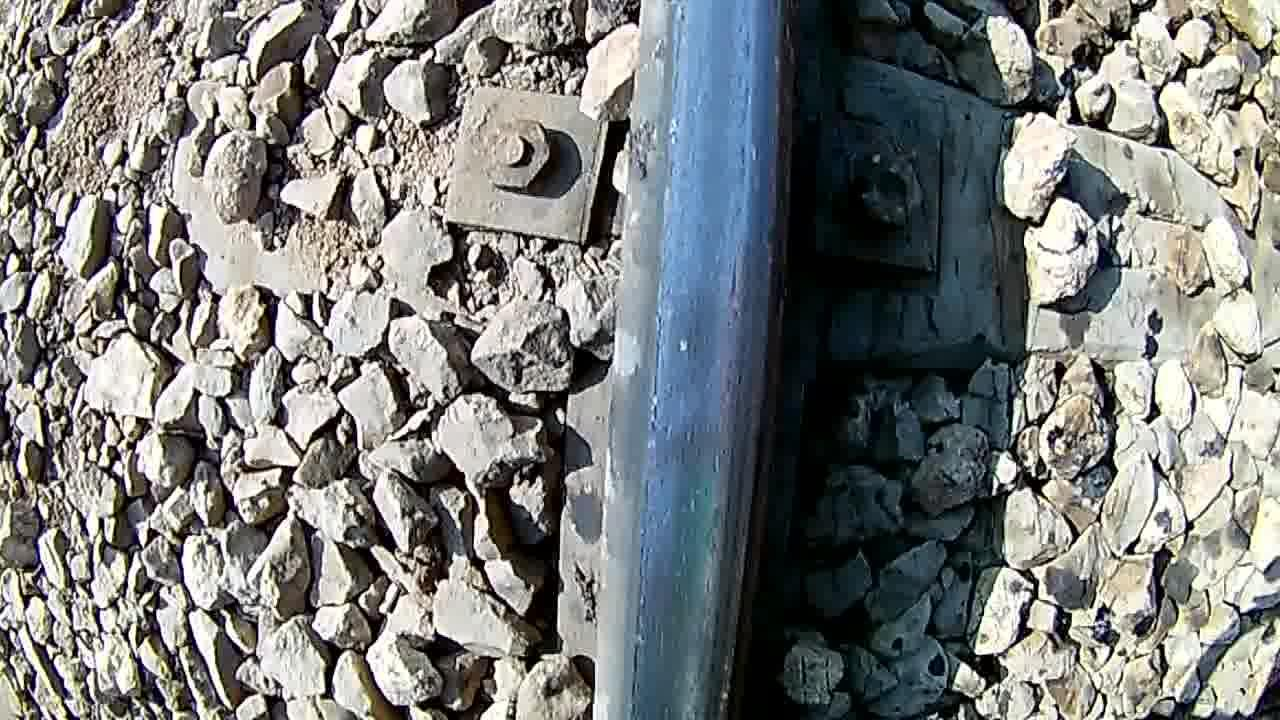clip_missing: (588, 0, 802, 720)
